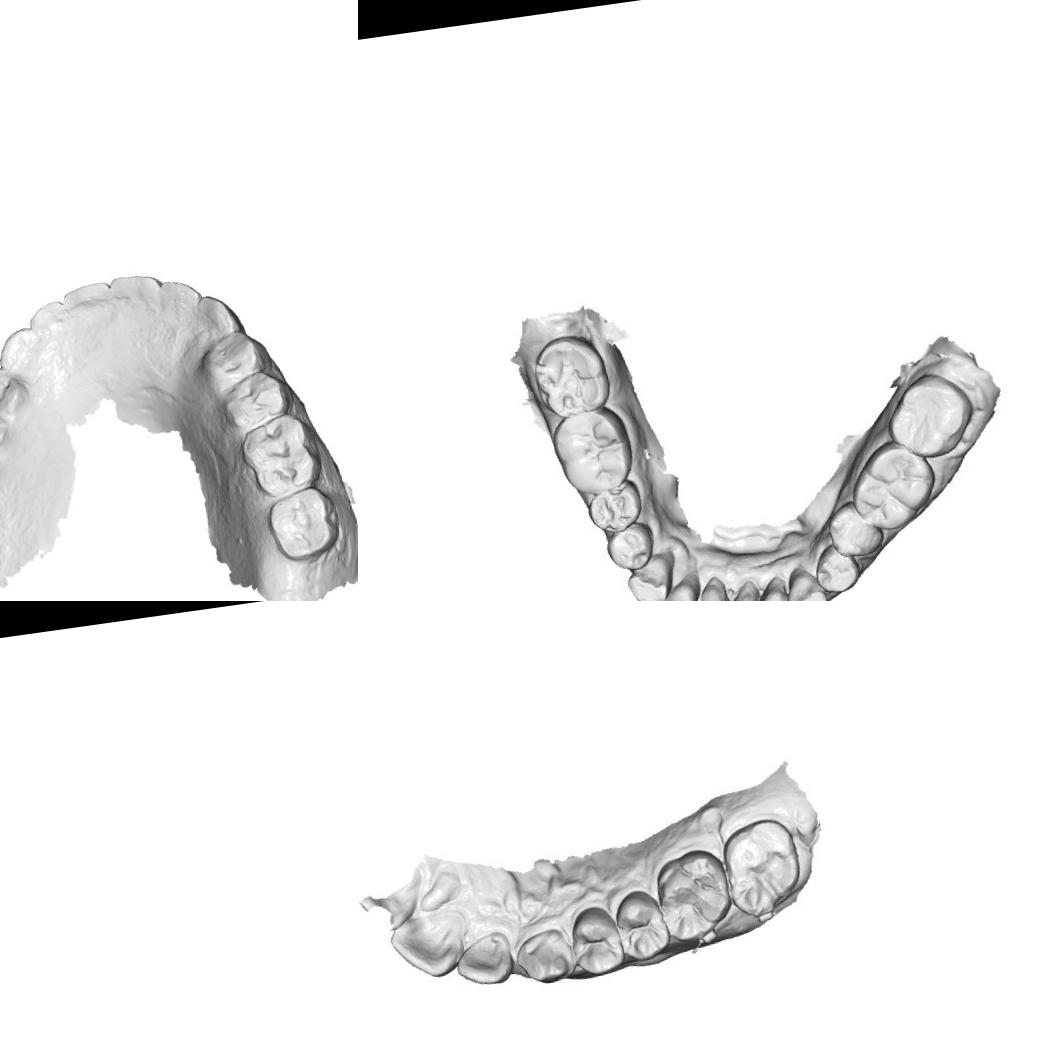canine: (510, 924, 578, 989), (0, 323, 51, 381), (193, 289, 246, 339), (622, 553, 676, 601), (783, 562, 829, 601)
incisor: (385, 903, 474, 984), (450, 928, 518, 991), (59, 278, 114, 322), (108, 268, 164, 308), (156, 273, 204, 318), (25, 298, 68, 344), (750, 577, 793, 601), (659, 578, 702, 601), (689, 576, 728, 601), (722, 584, 764, 601)
molar: (716, 813, 808, 921), (650, 844, 736, 946), (235, 408, 325, 504), (888, 372, 976, 459), (550, 410, 633, 494), (850, 441, 937, 520), (263, 483, 345, 564), (532, 330, 610, 414)
premolar: (194, 323, 276, 394), (217, 364, 297, 436), (564, 901, 628, 978), (611, 886, 674, 964), (826, 505, 882, 557), (810, 547, 861, 597), (588, 484, 637, 532), (605, 526, 656, 568), (0, 363, 34, 421), (0, 401, 12, 456)
